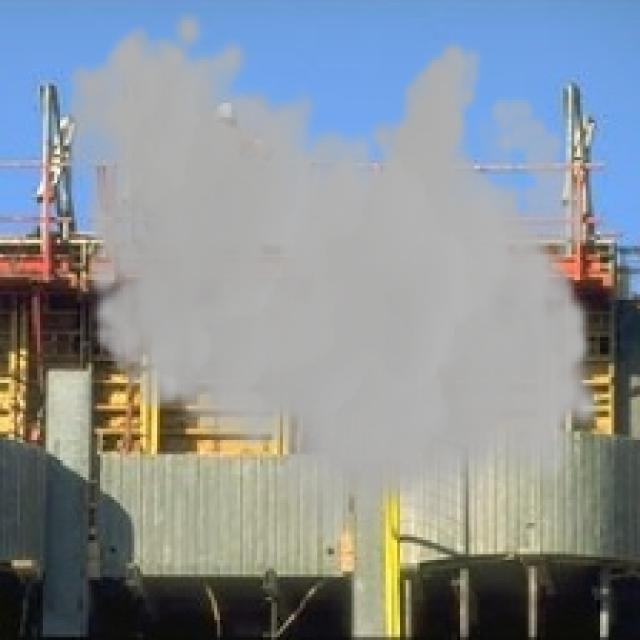smoke: (60, 6, 606, 554)
